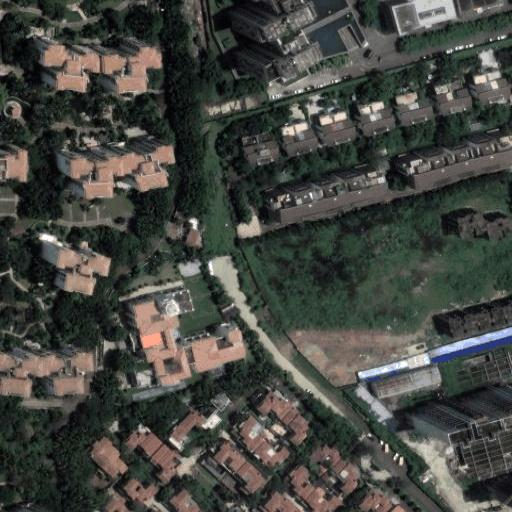building: (133, 290, 250, 387), (275, 0, 368, 67), (396, 123, 511, 177), (30, 37, 148, 88), (53, 132, 160, 187), (262, 163, 376, 210), (406, 383, 512, 426), (121, 424, 183, 484), (252, 387, 310, 448), (284, 460, 345, 512), (0, 338, 72, 381), (309, 442, 364, 495), (429, 329, 512, 364), (38, 232, 95, 280), (238, 31, 299, 72), (353, 385, 402, 434), (374, 365, 442, 398), (448, 303, 512, 337), (455, 208, 512, 242), (88, 436, 130, 478), (166, 409, 206, 452), (472, 70, 512, 108), (132, 378, 188, 403), (357, 358, 410, 384), (212, 439, 249, 476), (233, 458, 270, 495), (234, 416, 271, 453), (398, 90, 434, 127), (361, 100, 397, 136), (244, 132, 281, 167), (435, 79, 470, 116), (250, 11, 286, 46), (283, 121, 318, 157), (321, 112, 354, 147), (122, 477, 160, 507), (253, 441, 291, 471), (357, 487, 396, 512), (168, 486, 205, 512), (259, 490, 296, 512), (2, 498, 52, 512), (0, 141, 22, 172), (486, 476, 512, 499), (100, 494, 132, 512), (210, 389, 232, 415), (407, 352, 432, 372), (173, 258, 198, 278), (180, 225, 200, 249), (0, 186, 15, 214), (203, 412, 222, 433), (209, 366, 227, 377)
